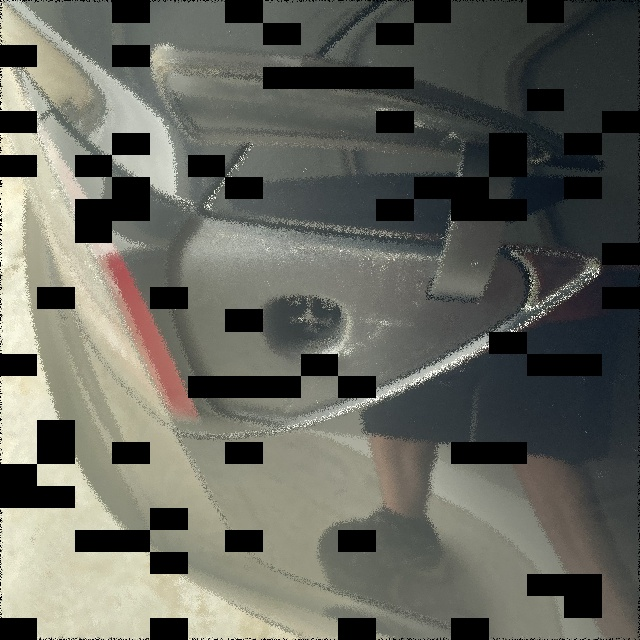port: (261, 295, 351, 362)
